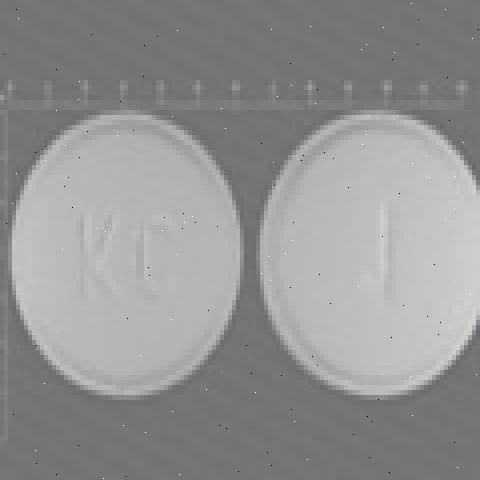Pill: (4, 93, 252, 421), (253, 91, 480, 423)
